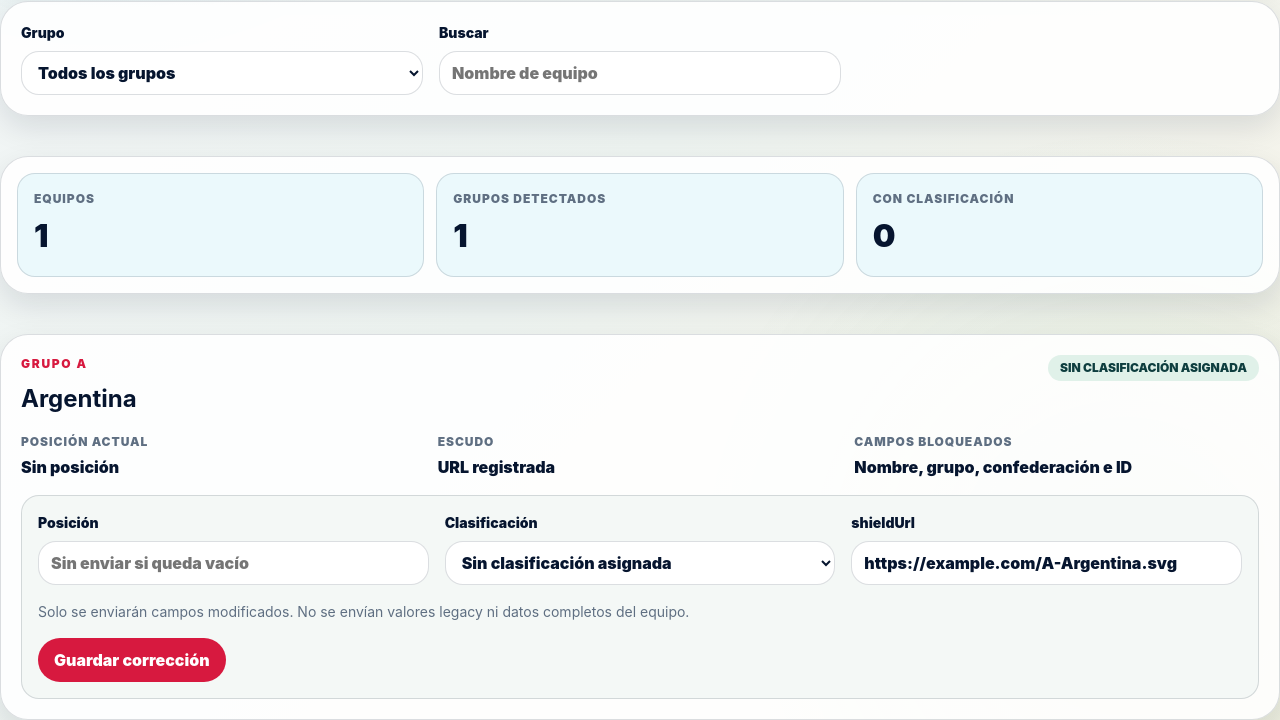
Test: AdminTeamCorrectionsPage › shows validation and backend errors in Spanish
(page scrolled)
Type "-1" into the field labelled "Posición" at (233, 563), box [38,541,429,585]
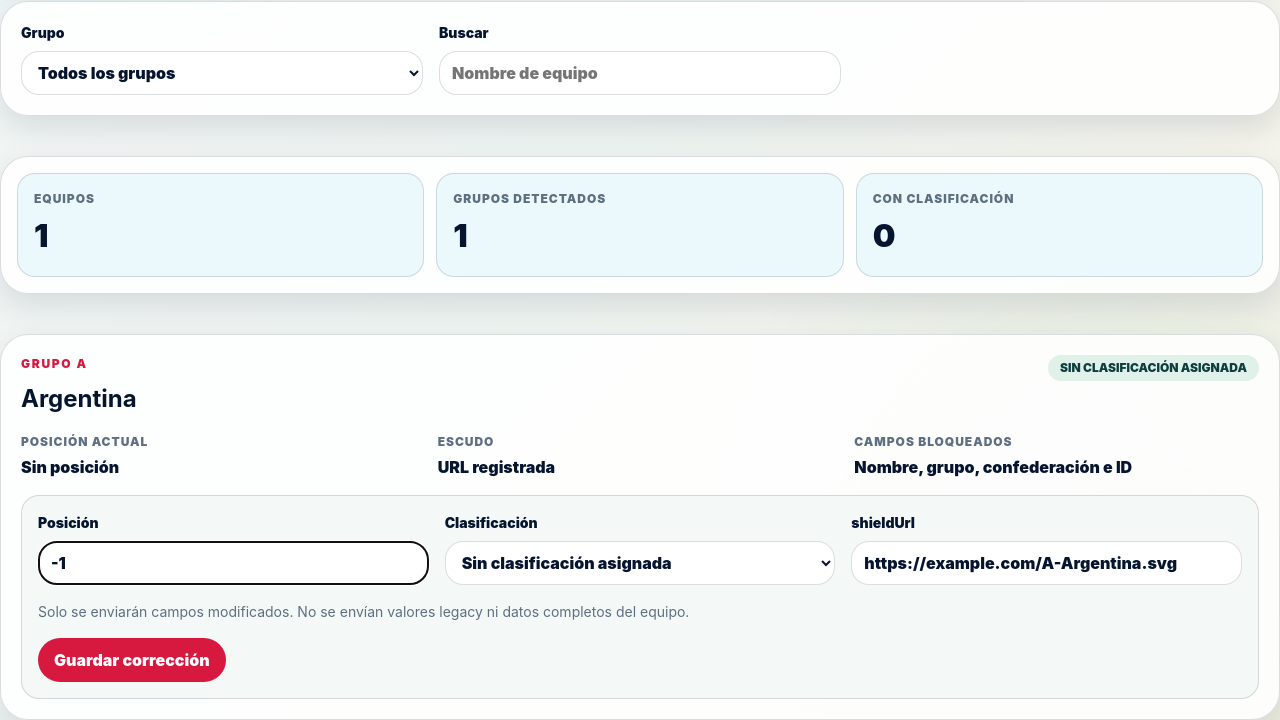
Click the button "Guardar corrección" at (132, 660), box [38,638,226,682]
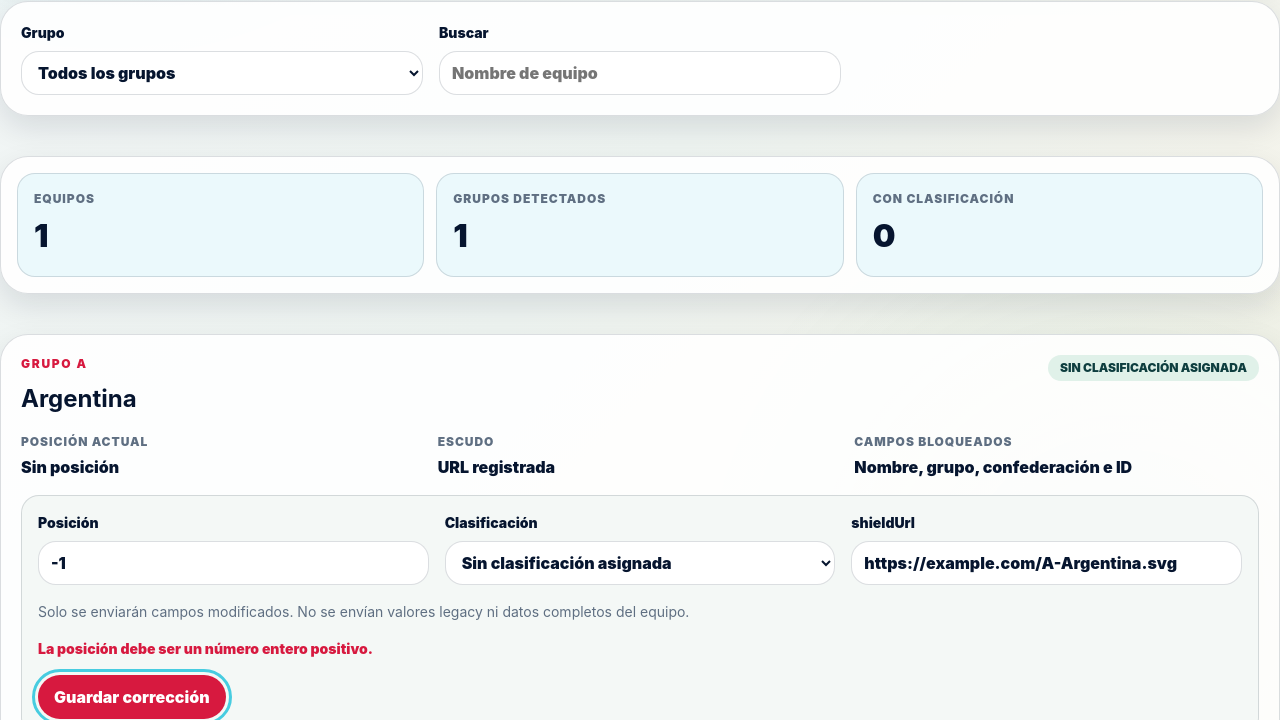
Check: the message shows "número entero positivo", box [38,640,373,657]
Clear the field labelled "Posición" at (233, 563), box [38,541,429,585]
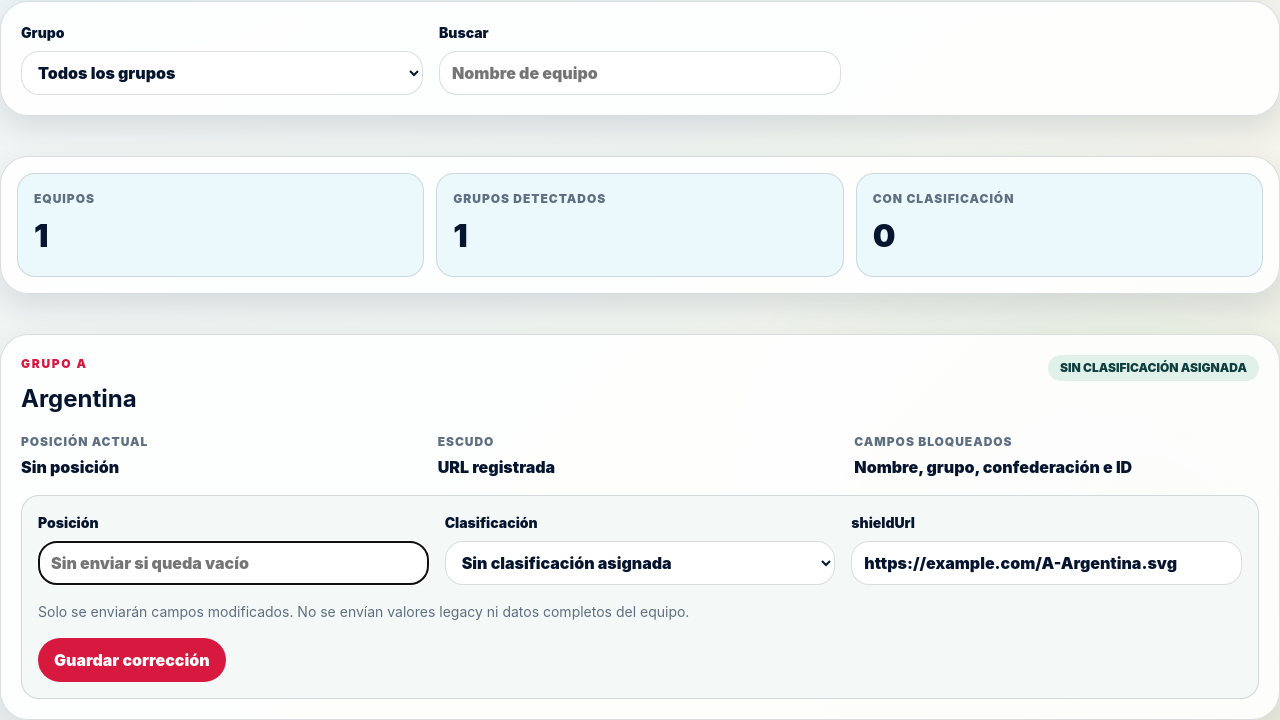
Select "Eliminado" in the dropdown labelled "Clasificación" at (640, 563), box [445,541,835,585]
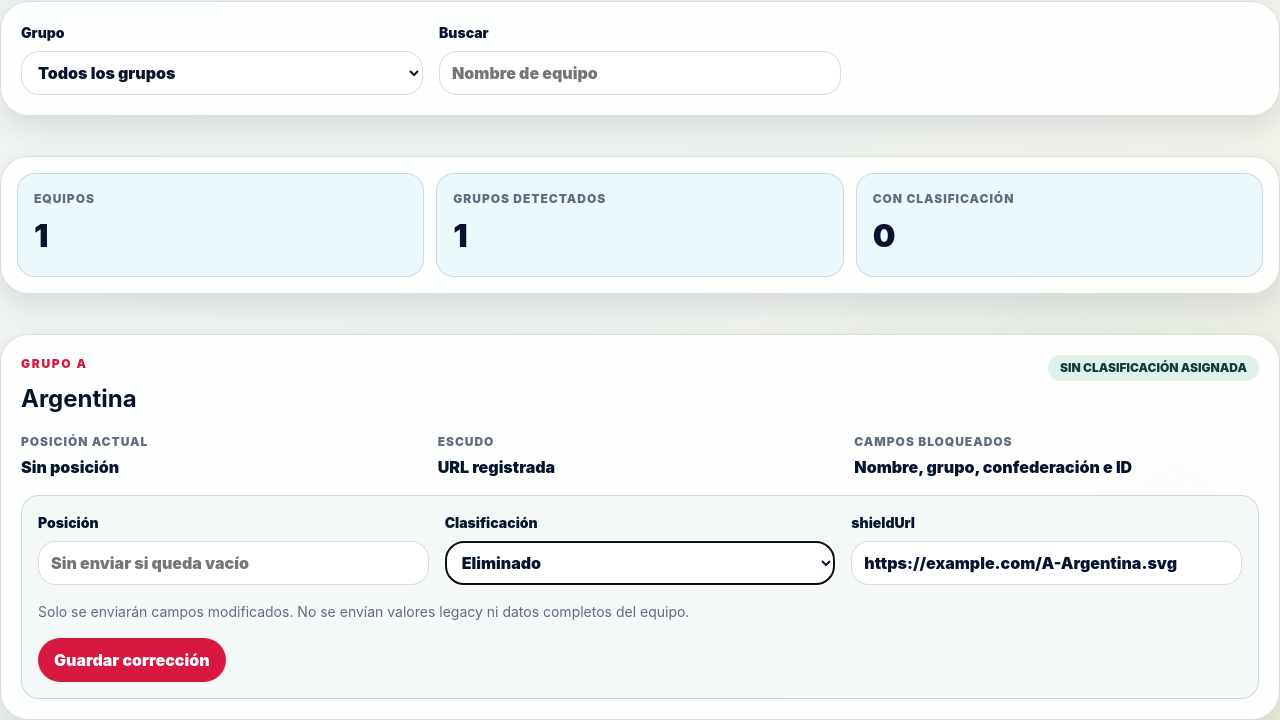
Click the button "Guardar corrección" at (132, 660), box [38,638,226,682]
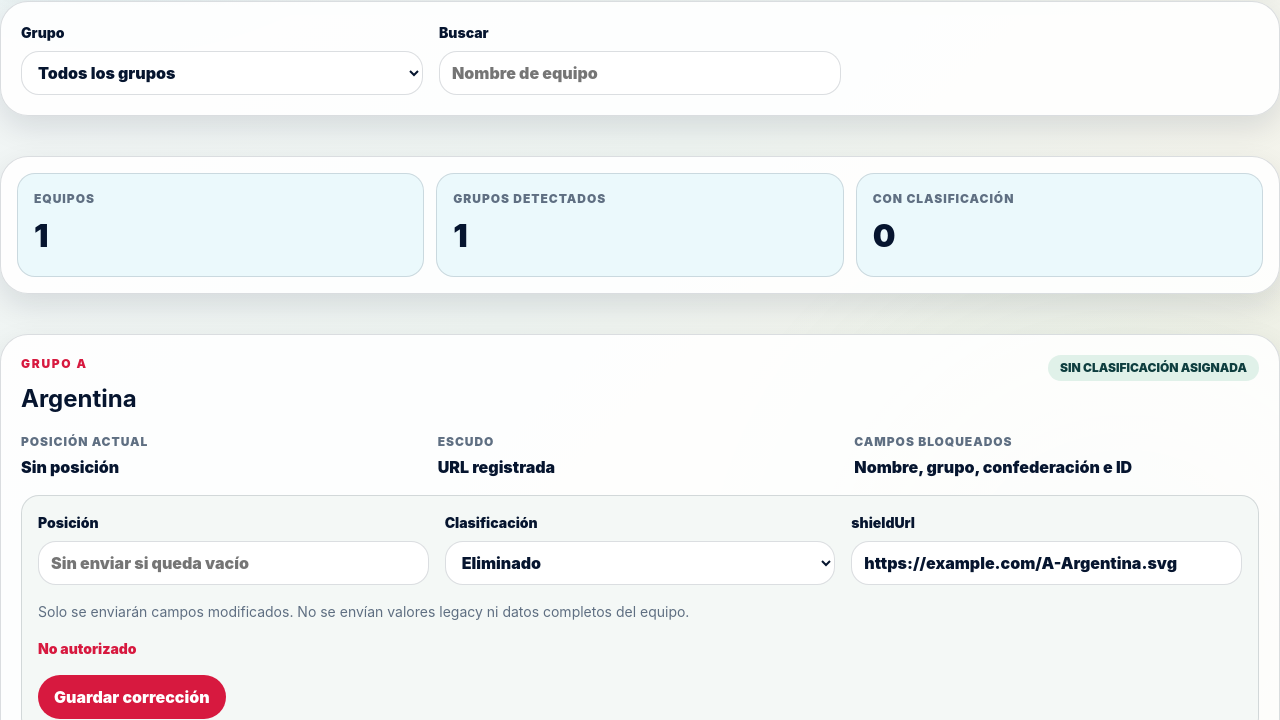
Check: the message reads "No autorizado", box [38,640,137,657]
